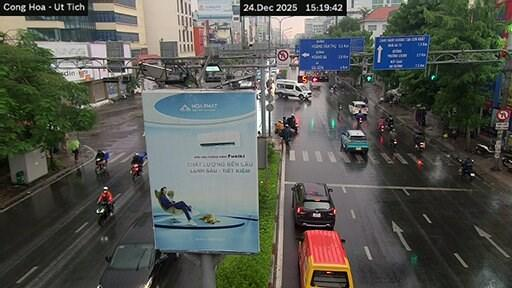motorbike: (458, 159, 475, 181), (96, 201, 110, 225), (459, 167, 475, 181), (474, 144, 495, 154), (95, 159, 106, 173), (502, 154, 511, 171), (131, 163, 139, 180), (415, 141, 426, 152), (282, 137, 290, 149), (389, 138, 397, 148), (378, 124, 384, 134)
